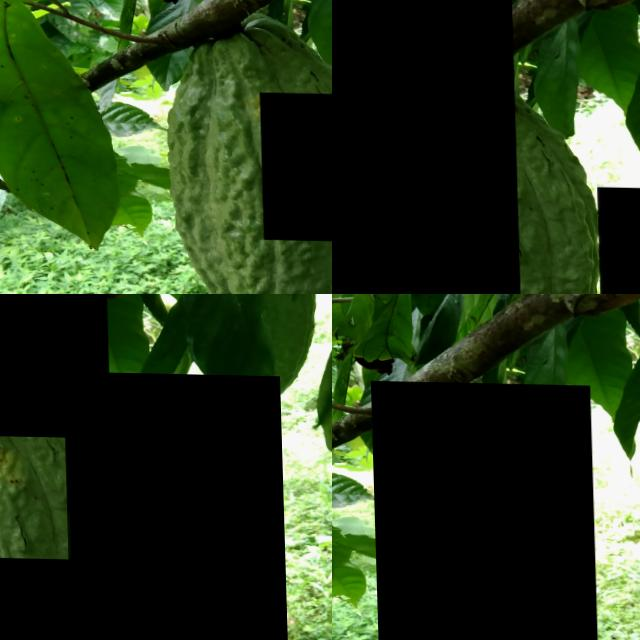Fitoftora: (62, 370, 286, 640), (0, 556, 114, 640)
Monilia: (369, 380, 596, 640), (332, 0, 518, 294), (595, 185, 640, 294)
Sana: (0, 294, 109, 436), (258, 91, 332, 239)
